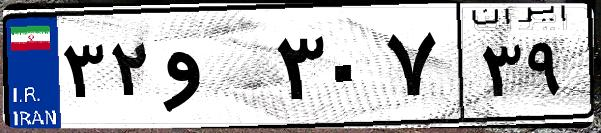0: (330, 28, 385, 110)
2: (110, 28, 158, 98)
3: (270, 28, 330, 110), (57, 26, 110, 100), (475, 38, 525, 113)
7: (385, 28, 445, 110)
9: (525, 38, 570, 115)
و: (158, 20, 270, 120)
